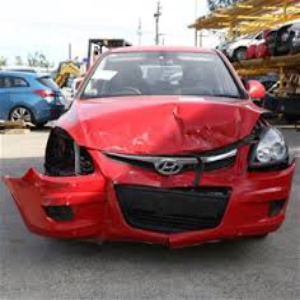bonnet: (104, 92, 260, 148)
bumper: (9, 163, 154, 248)
